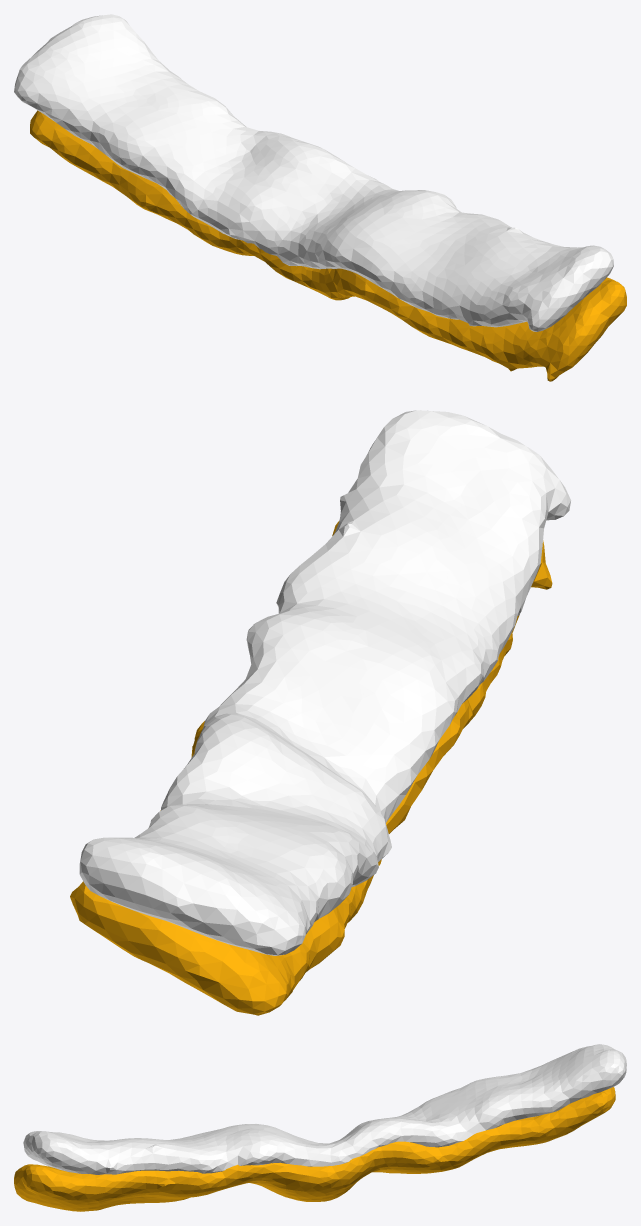
The model's file is cake0.obj.
3 renders of one model, top to bottom at view 1: azimuth 30°, elevation 25°; view 2: azimuth 150°, elevation 25°; view 3: azimuth 270°, elevation 25°, orthographic. The views are drawn at different scales.
Bounding box in the file's own units: 0.3536 × 0.1806 × 0.8117.
